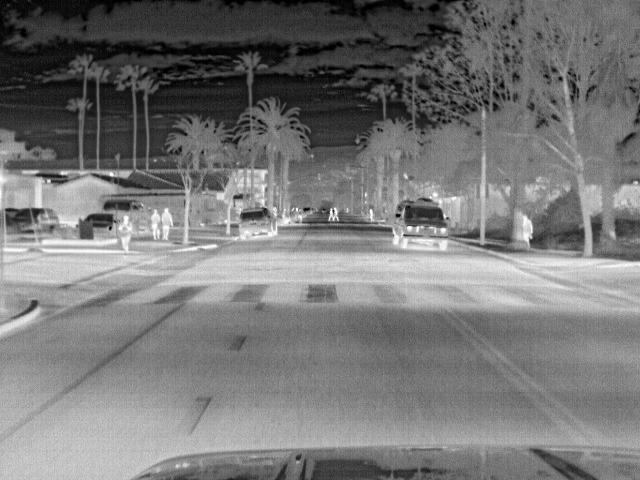car: (391, 198, 451, 249), (234, 203, 281, 242), (8, 204, 63, 236), (78, 210, 125, 242)
person: (159, 206, 177, 241), (519, 212, 536, 245), (117, 215, 132, 249), (148, 207, 162, 242), (332, 206, 340, 225), (368, 207, 376, 222), (329, 206, 335, 222)
